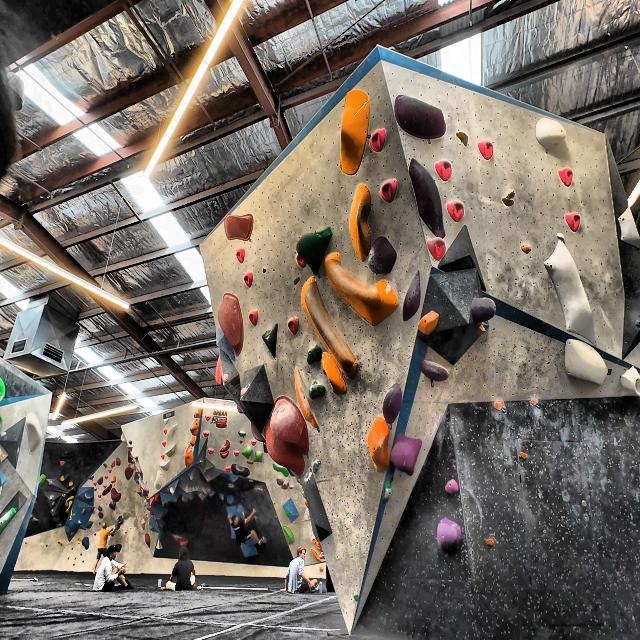Hold: (544, 234, 600, 340), (322, 252, 395, 330), (302, 278, 357, 376), (332, 90, 367, 178), (406, 158, 444, 236), (260, 419, 304, 478), (271, 394, 310, 454), (561, 342, 613, 386), (395, 93, 444, 139), (348, 184, 372, 262), (212, 294, 244, 352), (364, 418, 394, 472), (295, 231, 330, 275), (295, 367, 319, 427), (391, 432, 421, 478), (402, 272, 426, 322), (322, 352, 352, 390), (536, 117, 569, 151), (618, 204, 640, 254), (437, 514, 462, 555), (370, 236, 396, 271), (223, 212, 255, 240), (383, 379, 402, 423), (617, 364, 640, 400), (471, 296, 500, 322), (420, 357, 449, 383), (417, 309, 442, 335), (425, 239, 448, 265), (304, 337, 324, 364), (448, 199, 470, 222), (558, 164, 577, 190), (368, 127, 386, 154), (434, 160, 454, 181), (381, 177, 397, 203), (380, 480, 395, 506), (567, 211, 586, 231), (440, 479, 461, 497), (478, 141, 496, 162), (500, 188, 518, 208), (249, 422, 266, 443), (285, 313, 300, 336), (282, 524, 297, 546), (220, 440, 234, 460), (454, 128, 468, 146), (232, 463, 250, 477), (249, 309, 262, 328), (184, 444, 194, 468), (515, 446, 530, 461), (310, 382, 324, 398), (242, 272, 256, 287), (311, 460, 324, 476), (189, 418, 200, 436), (518, 242, 532, 255), (529, 394, 541, 408), (220, 373, 232, 387), (489, 402, 507, 411), (236, 248, 245, 264), (215, 418, 228, 429), (243, 447, 254, 459), (193, 406, 202, 419), (487, 536, 498, 546), (238, 388, 248, 398), (188, 436, 196, 448), (256, 449, 263, 462), (283, 508, 291, 519), (201, 430, 210, 438), (223, 466, 232, 473), (208, 448, 215, 455), (205, 415, 210, 423), (234, 451, 240, 457)
